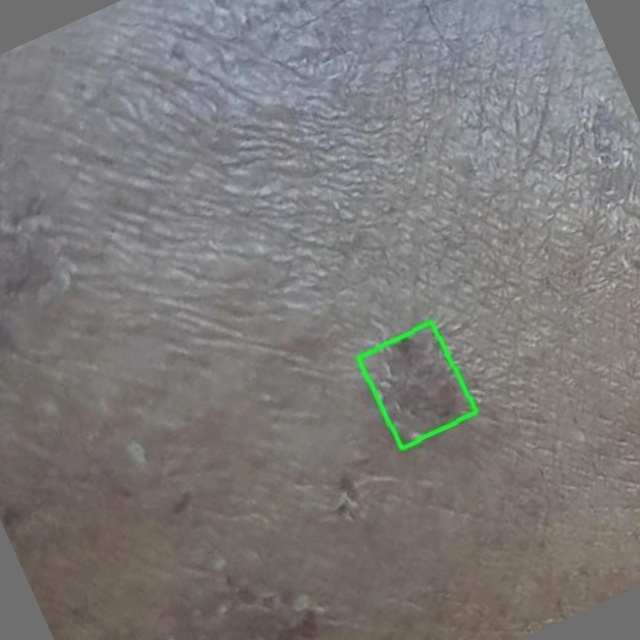Tinea Corporis: (358, 321, 476, 449)
